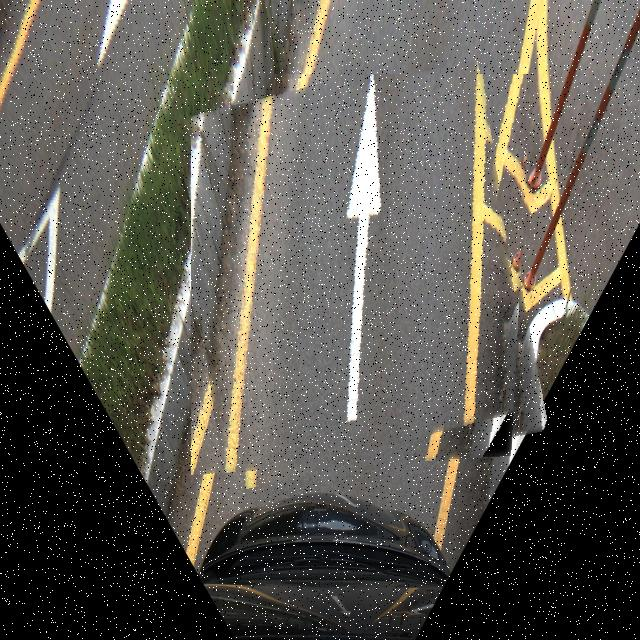forward: (191, 74, 532, 477)
